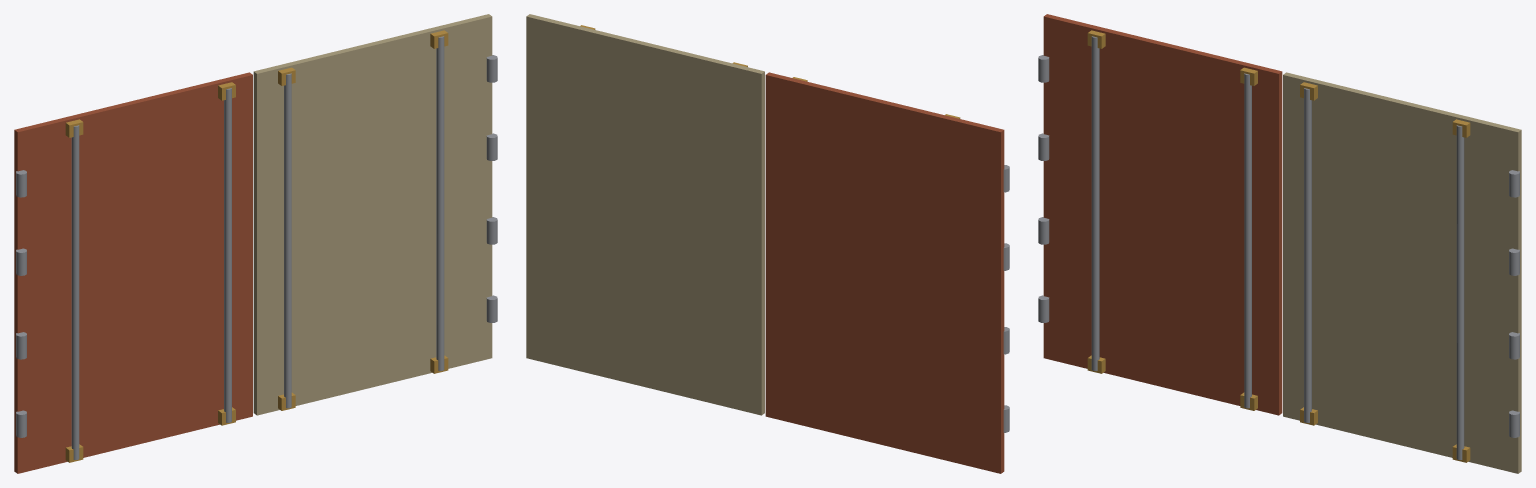
File: hold100_door.obj
3 views of the same model, side by side, from view 1: azimuth 30°, elevation 25°; view 2: azimuth 150°, elevation 25°; view 3: azimuth 330°, elevation 25° (orthographic).
Visible parts, largest first — view 1: hold100_door; view 2: hold100_door; view 3: hold100_door.
Part boxes in pixels (left/top/right/bottom): hold100_door: left=14, top=14, right=497, bottom=473; hold100_door: left=526, top=14, right=1009, bottom=473; hold100_door: left=1038, top=14, right=1521, bottom=473.
Bounding box in the file's own units: 4.81 × 3.27 × 0.145.
